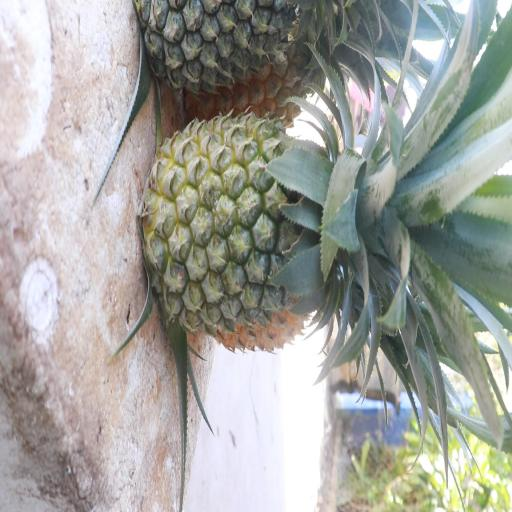------------------------------: (145, 113, 354, 319)
